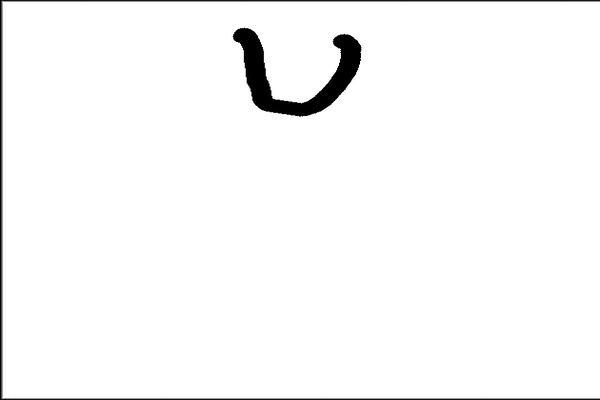U: (224, 4, 364, 128)
